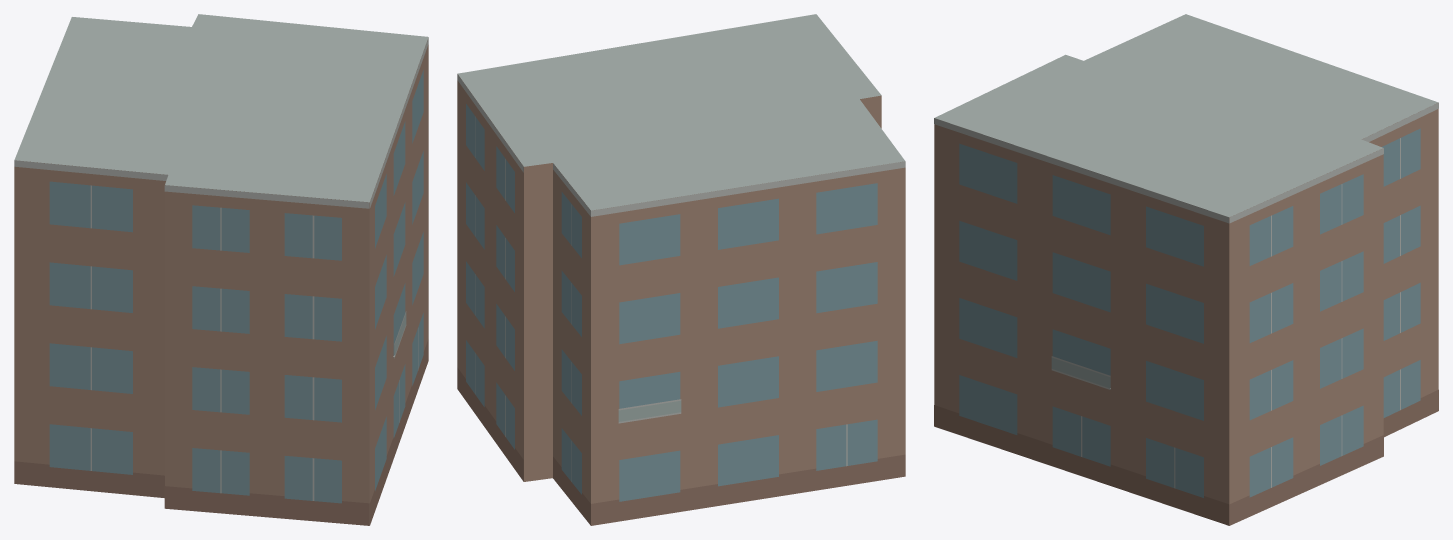
The model's file is survey-upis-32675089.glb.
The picture shows the model from 3 angles, left to right: view 1: azimuth 30°, elevation 25°; view 2: azimuth 150°, elevation 25°; view 3: azimuth 270°, elevation 25°; orthographic projection. The views are drawn at different scales.
Visible parts, largest first — view 1: survey-upis-32675089.tmp; view 2: survey-upis-32675089.tmp; view 3: survey-upis-32675089.tmp.
Part boxes in pixels (<box>): survey-upis-32675089.tmp: <box>14,14,428,525</box>; survey-upis-32675089.tmp: <box>457,14,905,525</box>; survey-upis-32675089.tmp: <box>934,14,1438,525</box>.
Bounding box in the file's own units: 17.26 × 12.2 × 18.09.
